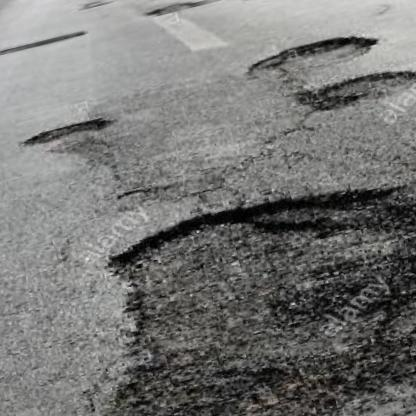pothole: (90, 140, 416, 416), (238, 22, 382, 84), (287, 56, 416, 123), (16, 114, 113, 151), (0, 24, 88, 58), (136, 0, 214, 22), (223, 0, 335, 12)
